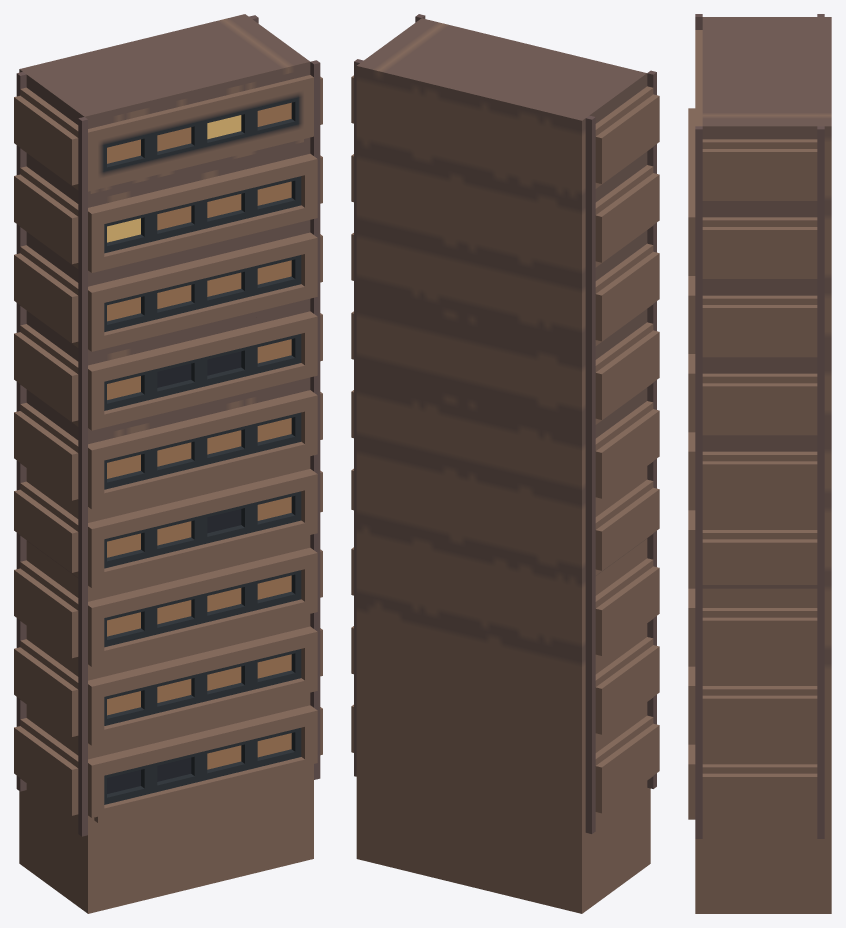
Rendered from Building-1.fbx.
3 views of the same model, side by side, from view 1: azimuth 30°, elevation 25°; view 2: azimuth 150°, elevation 25°; view 3: azimuth 270°, elevation 25° (orthographic).
Parts seen in each view (by area): view 1: Building_1; view 2: Building_1; view 3: Building_1.
Part boxes in pixels (left/top/right/bottom): Building_1: left=14, top=14, right=322, bottom=913; Building_1: left=351, top=14, right=659, bottom=913; Building_1: left=688, top=14, right=831, bottom=913.
Bounding box in the file's own units: 400 × 1210 × 200.
